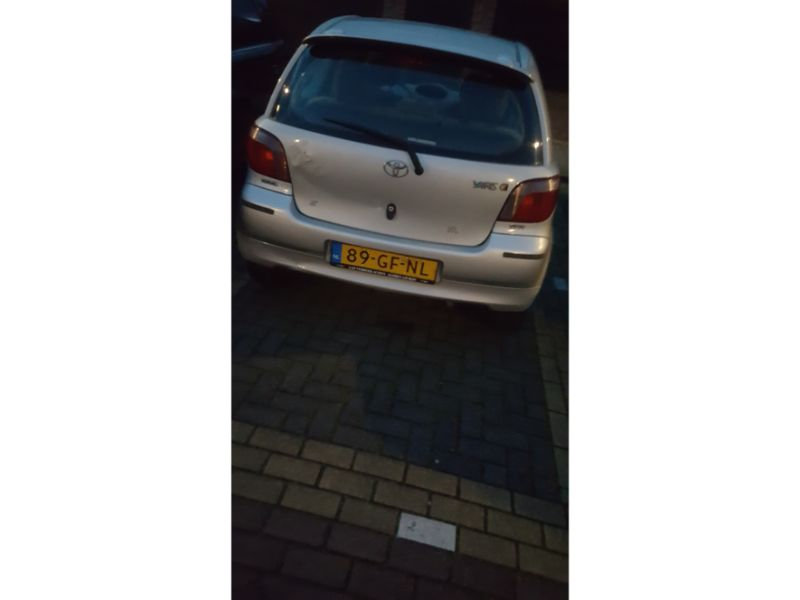kenteken: (326, 240, 441, 297)
